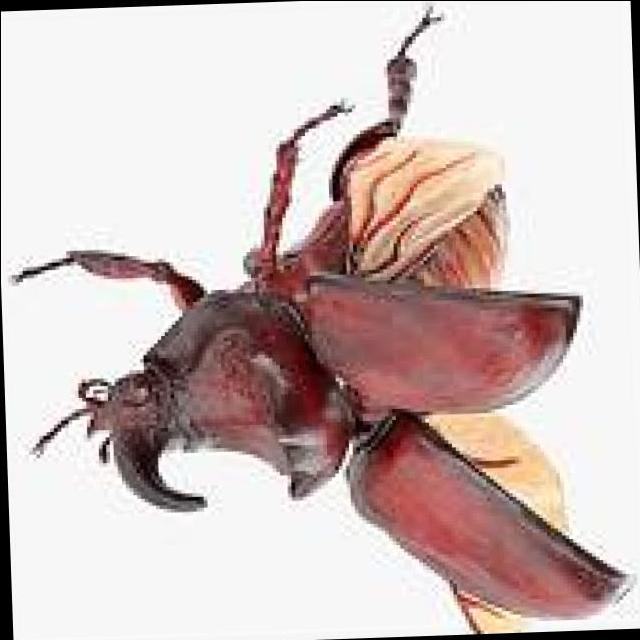Rhino-beetle: (55, 17, 612, 634)
